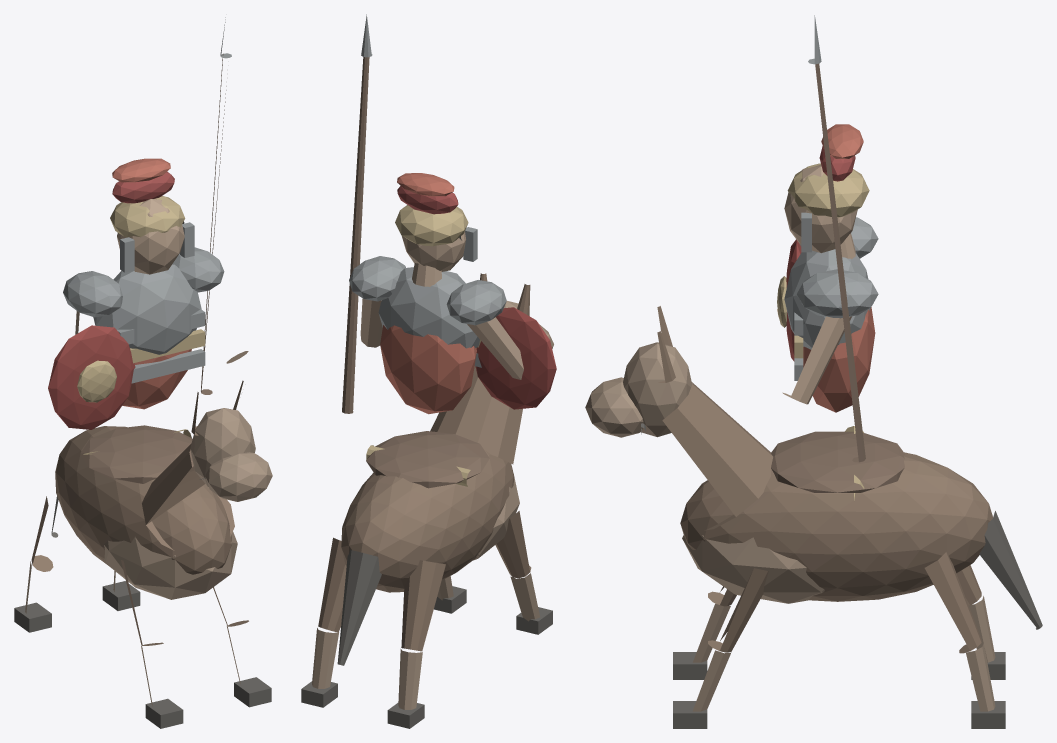
File: roman-heavy.glb
3 renders of one model, left to right at view 1: azimuth 30°, elevation 25°; view 2: azimuth 150°, elevation 25°; view 3: azimuth 270°, elevation 25°, orthographic. The views are drawn at different scales.
Parts seen in each view (by area): view 1: world; view 2: world; view 3: world.
Part boxes in pixels (x1,y1,x2,y2): world: [14, 17, 272, 728]; world: [301, 14, 556, 728]; world: [585, 15, 1042, 728].
Bounding box in the file's own units: 15.94 × 48.78 × 27.91.
